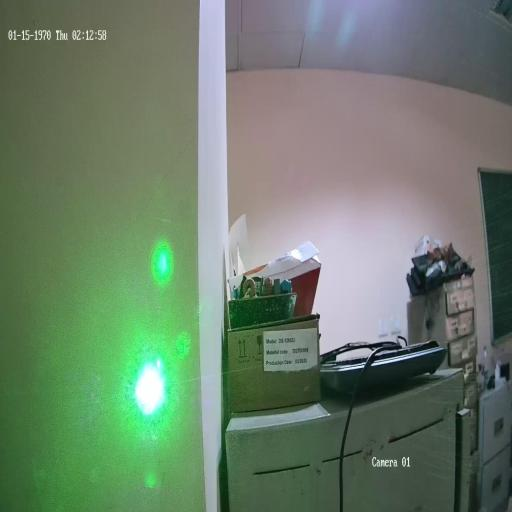laser: (130, 351, 171, 421)
